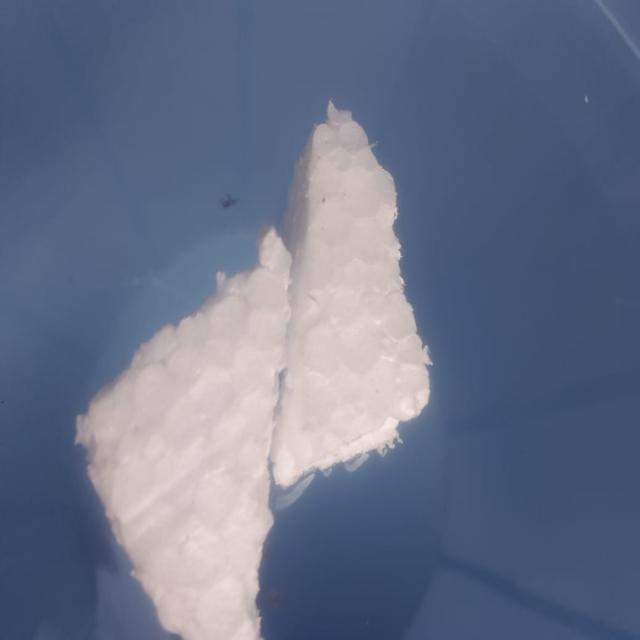thermocoal: (72, 92, 437, 640), (69, 209, 298, 640), (278, 99, 435, 492)
